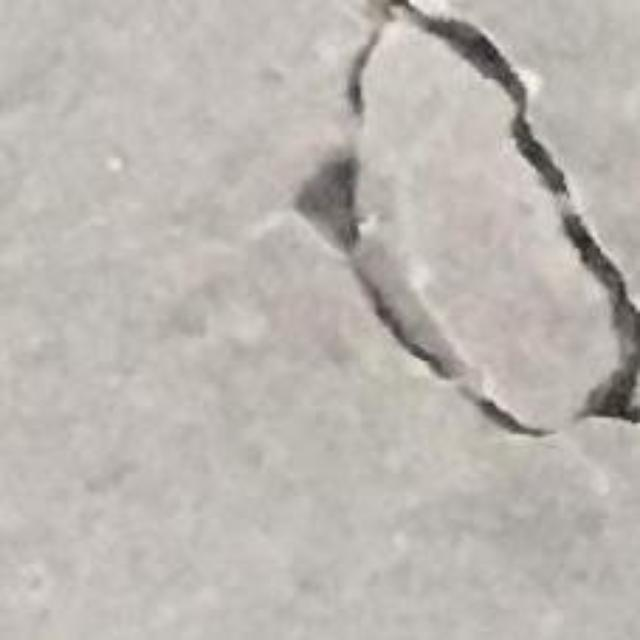crack: (297, 0, 639, 437)
